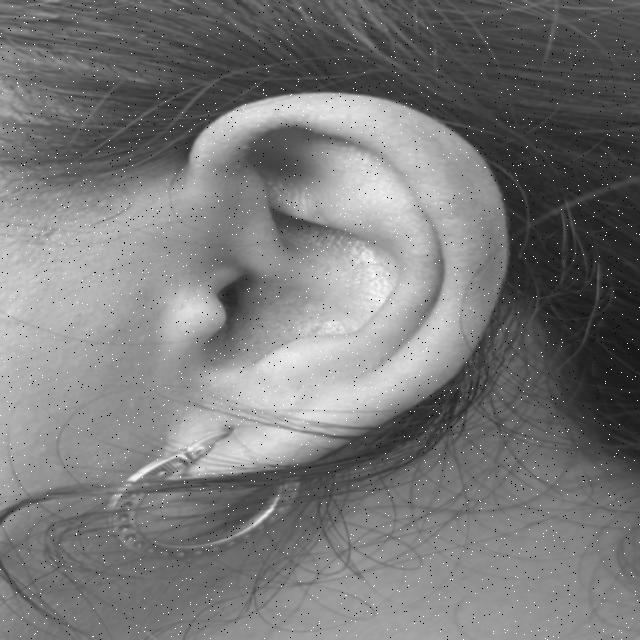ear: (167, 92, 506, 470), (179, 432, 196, 441), (216, 424, 227, 430), (197, 433, 206, 435), (184, 244, 187, 250), (184, 425, 187, 428), (196, 254, 199, 255), (229, 462, 230, 463)
